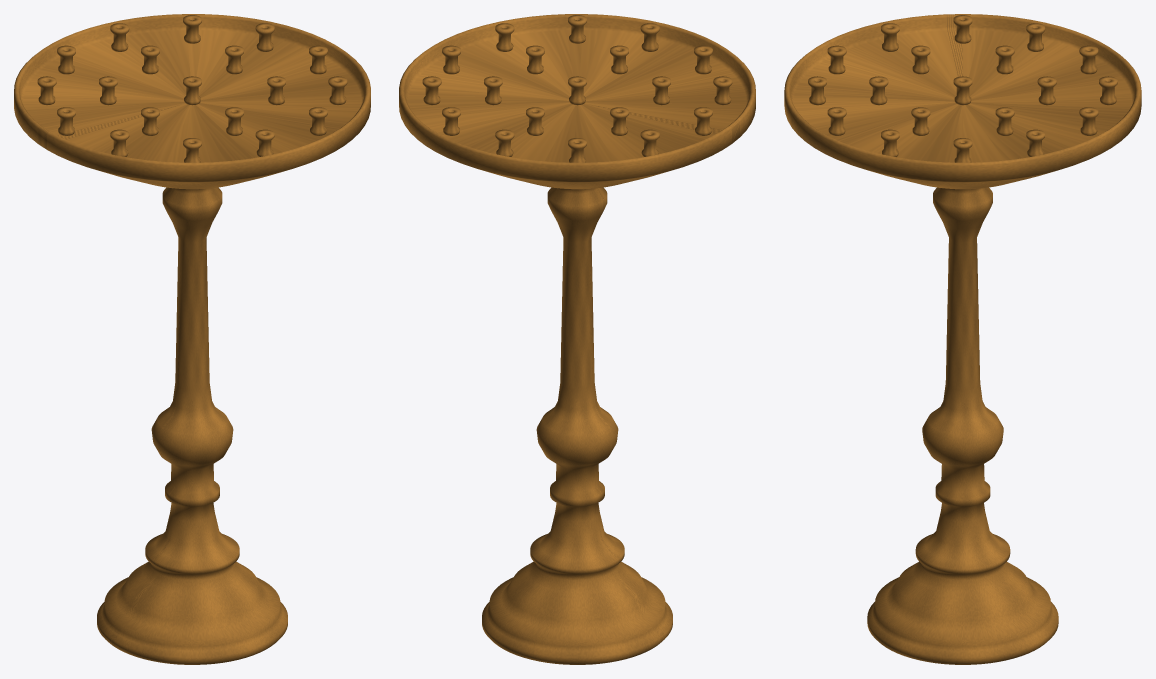
Rendered from candle_stand.glb.
The picture shows the model from 3 angles, left to right: view 1: azimuth 30°, elevation 25°; view 2: azimuth 150°, elevation 25°; view 3: azimuth 270°, elevation 25°; orthographic projection.
Parts seen in each view (by area): view 1: Tray, Pedestal; view 2: Tray, Pedestal; view 3: Tray, Pedestal.
Part boxes in pixels (<box>): Tray: <box>14,14,370,189</box>; Pedestal: <box>97,187,287,664</box>; Tray: <box>399,14,755,189</box>; Pedestal: <box>482,187,672,664</box>; Tray: <box>784,14,1141,189</box>; Pedestal: <box>867,187,1058,664</box>.
Size of the model in its own units: 0.68 by 1.15 by 0.68.
Materials: 1 (1 with a texture image).
